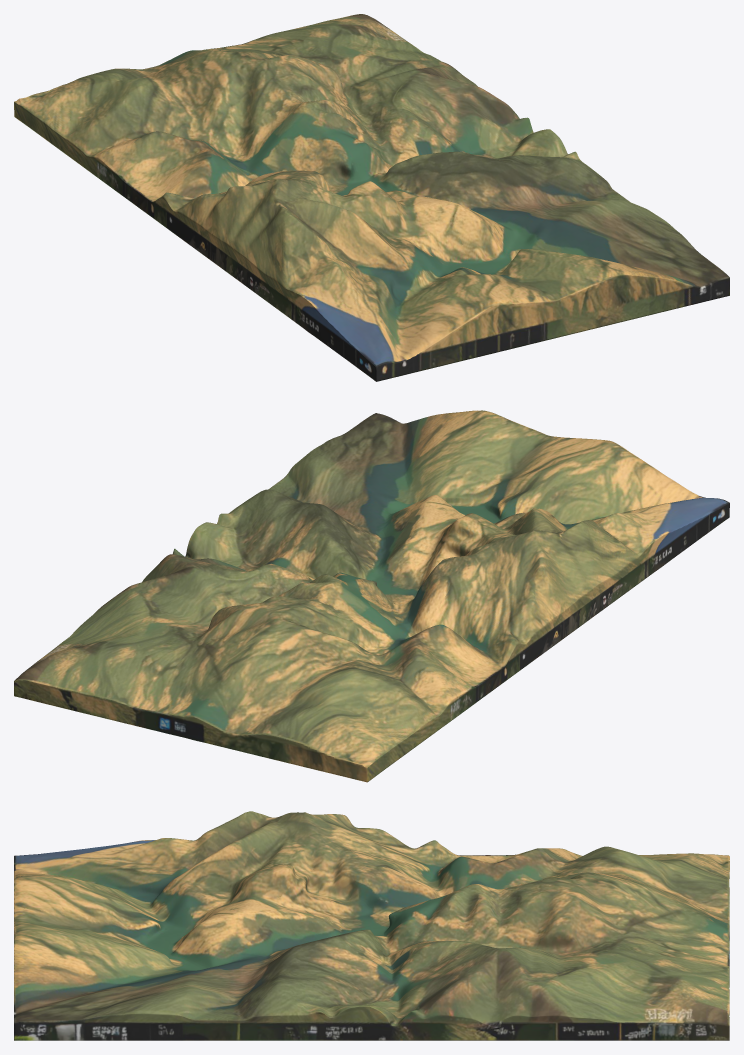
Rendered from tripo_pbr_model_ce2c5736-2ee3-42f7-8d20-2437071deedc_meshopt.glb.
3 renders of one model, top to bottom at view 1: azimuth 30°, elevation 25°; view 2: azimuth 150°, elevation 25°; view 3: azimuth 270°, elevation 25°, orthographic.
Visible parts, largest first — view 1: tripo_node_ce2c5736-2ee3-42f7-8d20-2437071deedc; view 2: tripo_node_ce2c5736-2ee3-42f7-8d20-2437071deedc; view 3: tripo_node_ce2c5736-2ee3-42f7-8d20-2437071deedc.
Boxes of the visible parts, x1,y1,x2,y2 form: tripo_node_ce2c5736-2ee3-42f7-8d20-2437071deedc: (14, 14, 729, 381); tripo_node_ce2c5736-2ee3-42f7-8d20-2437071deedc: (14, 410, 729, 782); tripo_node_ce2c5736-2ee3-42f7-8d20-2437071deedc: (14, 811, 729, 1040).
Size of the model in its own units: 0.5728 by 0.1258 by 1.
Materials: 1 (1 with a texture image).
